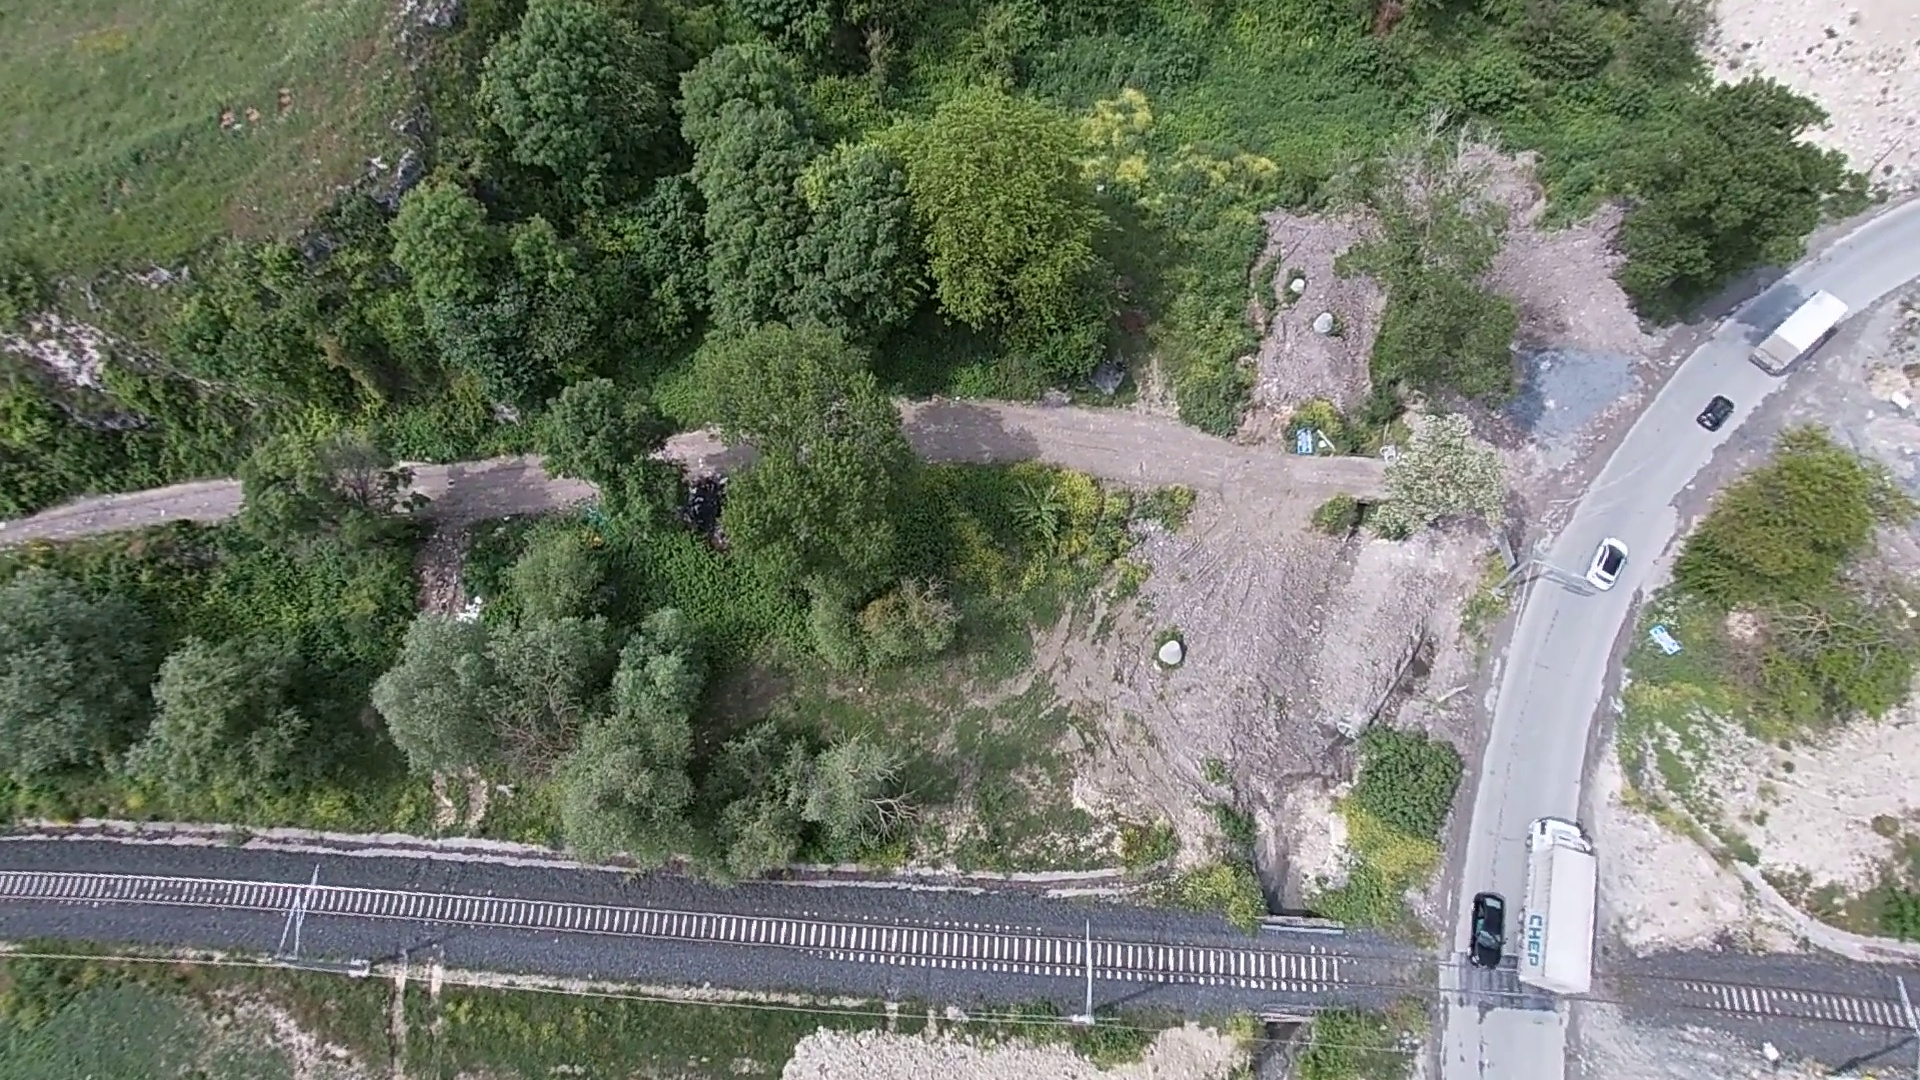araba: (1466, 891, 1511, 967), (1582, 535, 1625, 589), (1702, 392, 1735, 427)
kamyon: (1518, 816, 1600, 992), (1745, 285, 1849, 376)
